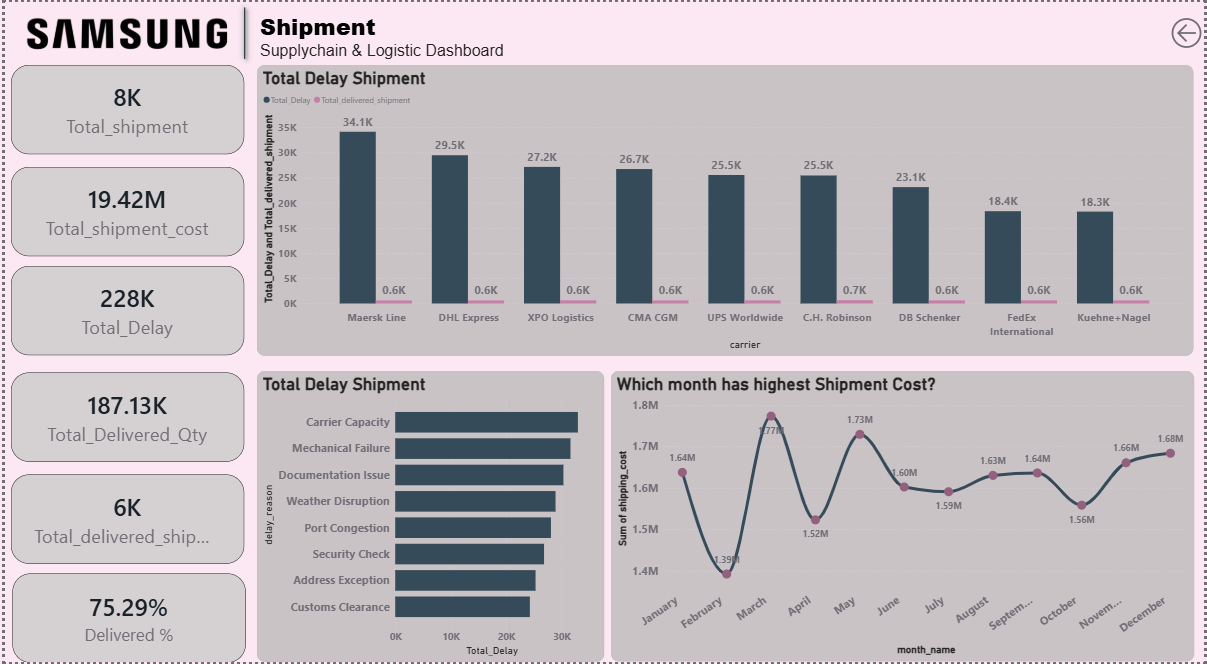

Layout of this report page (visuals, bound fields, positions):
{"tool":"powerbi","page":{"name":"Shipment","canvas":[2000,1100],"ordinal":5},"visuals":[{"type":"image","box":[9.9,0,371.1,103.9],"z":0},{"type":"shape","box":[346.3,0,103.9,103.9],"z":1000},{"type":"textbox","box":[420.5,7.4,677.8,96.5],"z":2000},{"type":"cardVisual","fields":{"Data":["Table.Total_shipment"]},"box":[9.9,103.9,388.4,148.4],"z":3000},{"type":"cardVisual","fields":{"Data":["Table.Total_shipment_cost"]},"box":[9.9,274.6,388.4,148.4],"z":4000},{"type":"cardVisual","fields":{"Data":["Table.Total_Delay"]},"box":[9.9,440.3,388.4,148.4],"z":5000},{"type":"cardVisual","fields":{"Data":["Table.Total_Delivered_Qty"]},"box":[9.9,618.5,388.4,148.4],"z":6000},{"type":"cardVisual","fields":{"Data":["Table.Total_delivered_shipment"]},"box":[9.9,786.7,388.4,148.4],"z":7000},{"type":"cardVisual","fields":{"Data":["Table.Delivered %"]},"box":[12.4,952.4,388.4,148.4],"z":8000},{"type":"clusteredColumnChart","title":"Total Delay Shipment","fields":{"Category":["fact_shipment.carrier"],"Y":["Table.Total_Delay","Table.Total_delivered_shipment"]},"box":[420.5,103.9,1561,484.9],"z":9000},{"type":"clusteredBarChart","title":"Total Delay Shipment","fields":{"Y":["Table.Total_Delay"],"Category":["fact_shipment.delay_reason"]},"box":[420.5,616,578.9,484.9],"z":10000},{"type":"lineChart","title":"Which month has highest Shipment Cost?","fields":{"Category":["dim_date.month_name"],"Y":["Sum(fact_shipment.shipping_cost)"]},"box":[1010,616,972,484],"z":11000},{"type":"actionButton","box":[1936.7,0,63.3,103.3],"z":12000}]}

Visuals, with their boxes in screenshot pixels (x1, y1, x2, y2), scaled from the page's 2000x1100 canvas onto the 1207x664 screenshot:
image: <box>6,0,230,63</box>
shape: <box>209,0,272,63</box>
textbox: <box>254,4,663,63</box>
cardVisual - Table.Total_shipment: <box>6,63,240,152</box>
cardVisual - Table.Total_shipment_cost: <box>6,166,240,255</box>
cardVisual - Table.Total_Delay: <box>6,266,240,355</box>
cardVisual - Table.Total_Delivered_Qty: <box>6,373,240,463</box>
cardVisual - Table.Total_delivered_shipment: <box>6,475,240,564</box>
cardVisual - Table.Delivered %: <box>7,575,242,663</box>
"Total Delay Shipment" clusteredColumnChart: <box>254,63,1196,355</box>
"Total Delay Shipment" clusteredBarChart: <box>254,372,603,663</box>
"Which month has highest Shipment Cost?" lineChart: <box>610,372,1196,663</box>
actionButton: <box>1169,0,1206,62</box>
